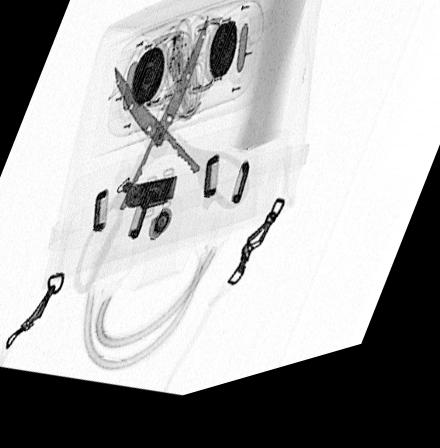Scissors: (70, 21, 249, 301)
